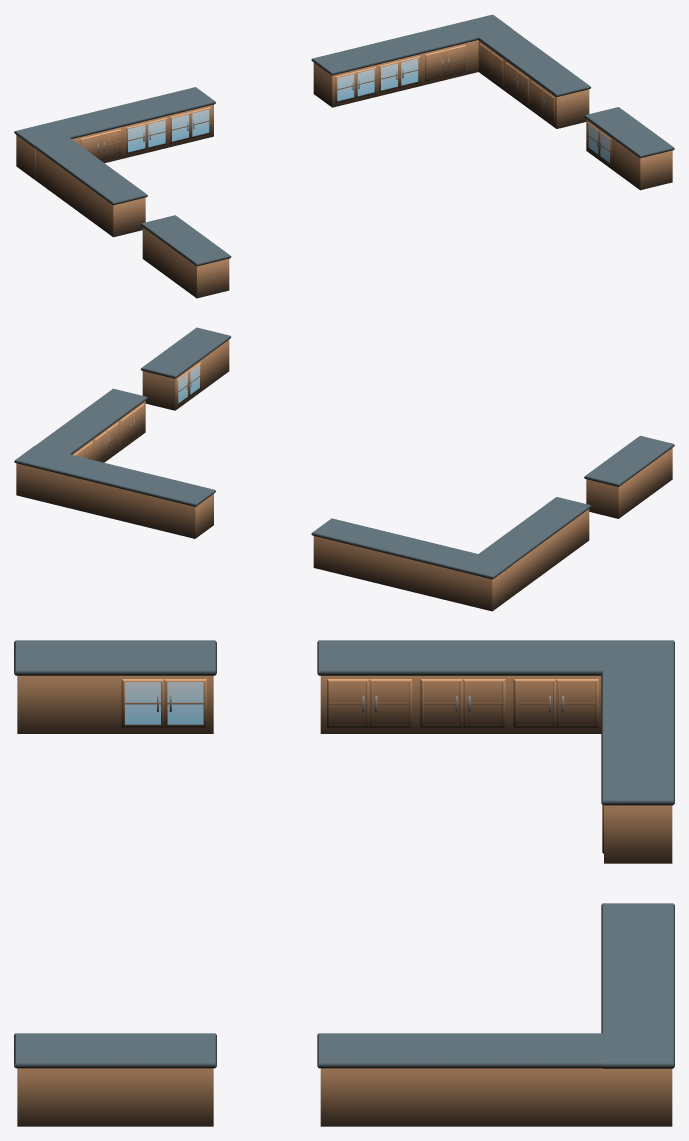
File: Countertop.fbx
3 renders of one model, top to bottom at view 1: azimuth 30°, elevation 25°; view 2: azimuth 150°, elevation 25°; view 3: azimuth 270°, elevation 25°, orthographic. The views are drawn at different scales.
Visible parts, largest first — view 1: Countertop Module.002; view 2: Countertop Module.002; view 3: Countertop Module.002.
Boxes of the visible parts, <box> form: Countertop Module.002: <box>14,14,674,298</box>; Countertop Module.002: <box>14,327,674,611</box>; Countertop Module.002: <box>14,640,674,1126</box>.
Size of the model in its own units: 1262 by 89 by 830.
Materials: 1 (1 with a texture image).
